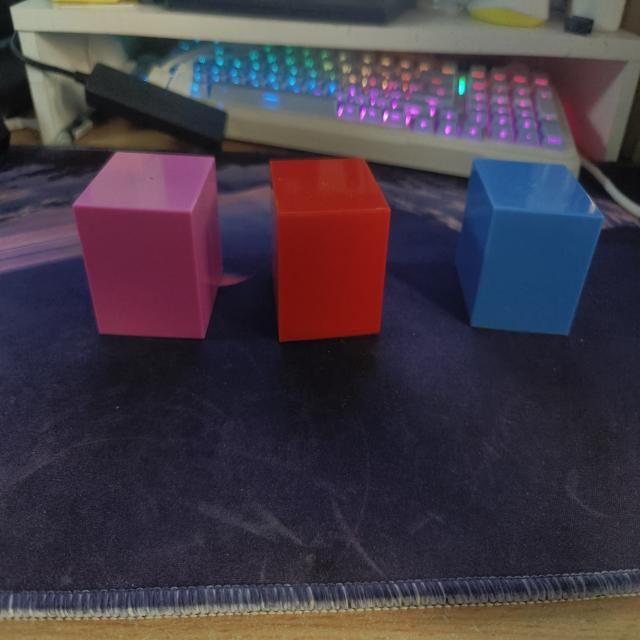blue: (452, 154, 608, 341)
pink: (66, 149, 231, 344)
red: (267, 149, 396, 348)
